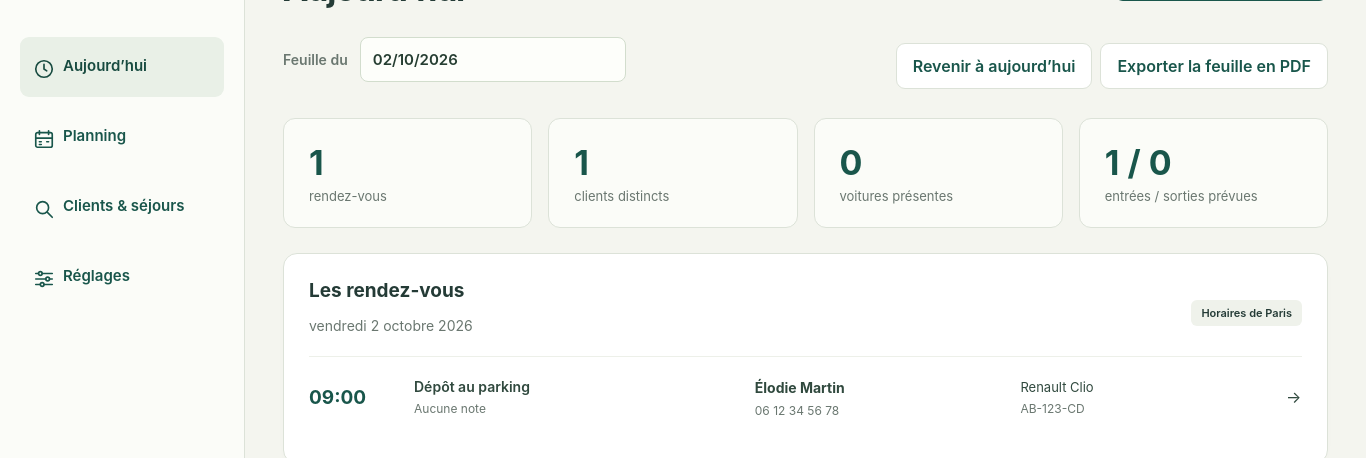
Test case: parcours du gestionnaire › refuse une saisie monétaire avec trois décimales
The width and height of the screenshot is (1366, 458).
Click the button "Dépôt au parking" at coordinates (806, 397), box [309,356,1302,438]
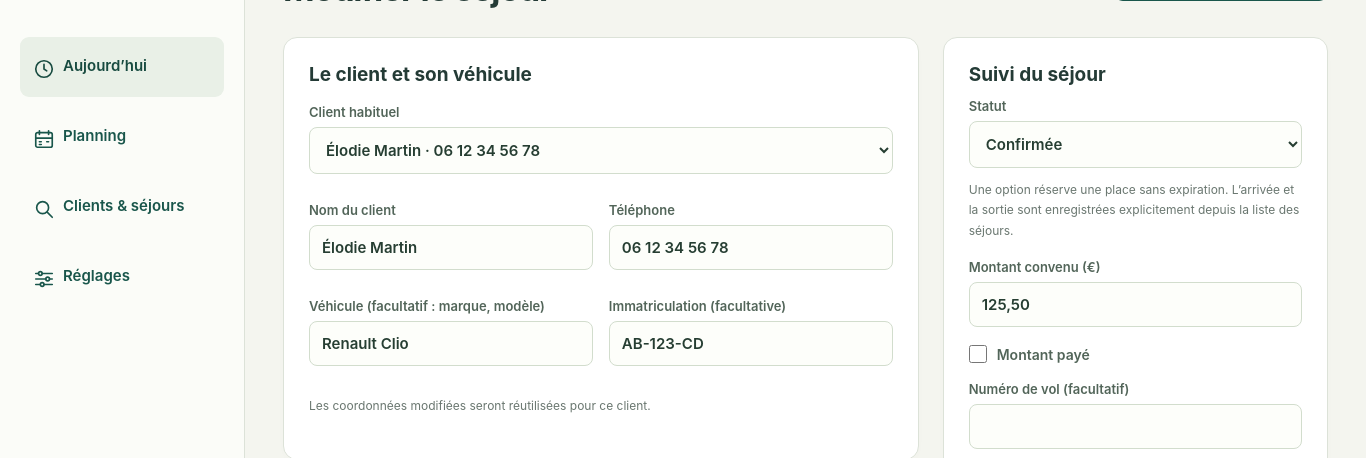
Replace the text in the field labelled "Montant convenu (€)" with "12,345" at coordinates (1135, 305), box [969,282,1302,327]
(page scrolled)
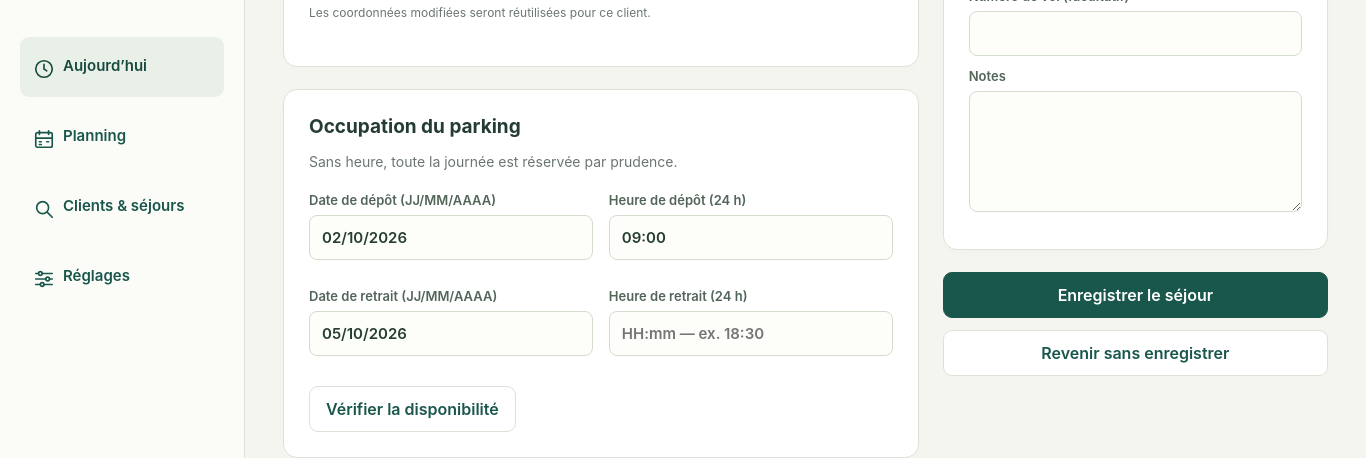
Click the button "Enregistrer le séjour" at coordinates (1135, 295), box [943,272,1328,318]
(page scrolled)
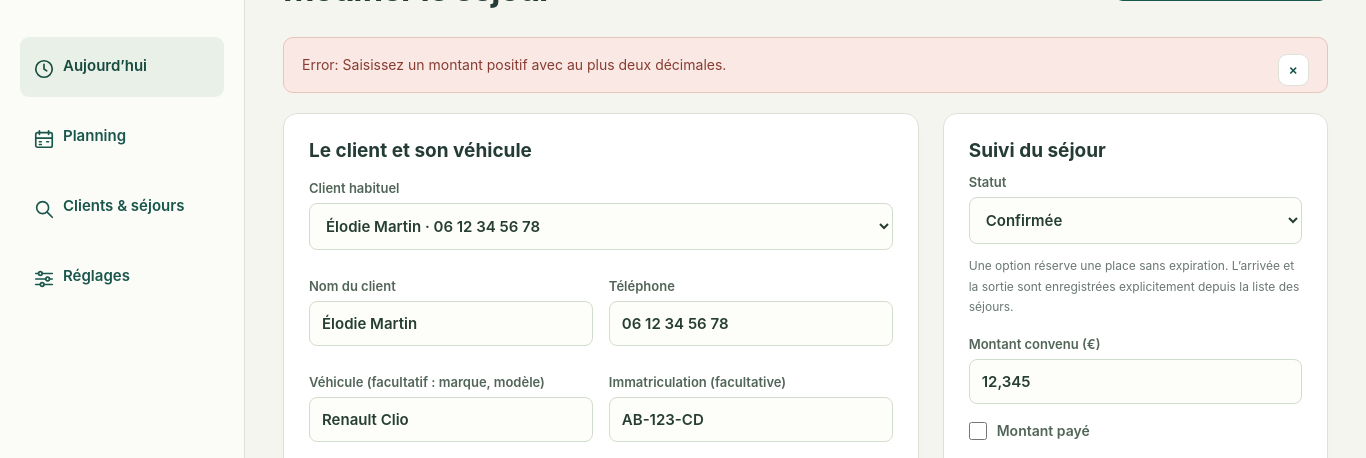
expect the message shows "deux décimales": met, box [302,56,726,73]
